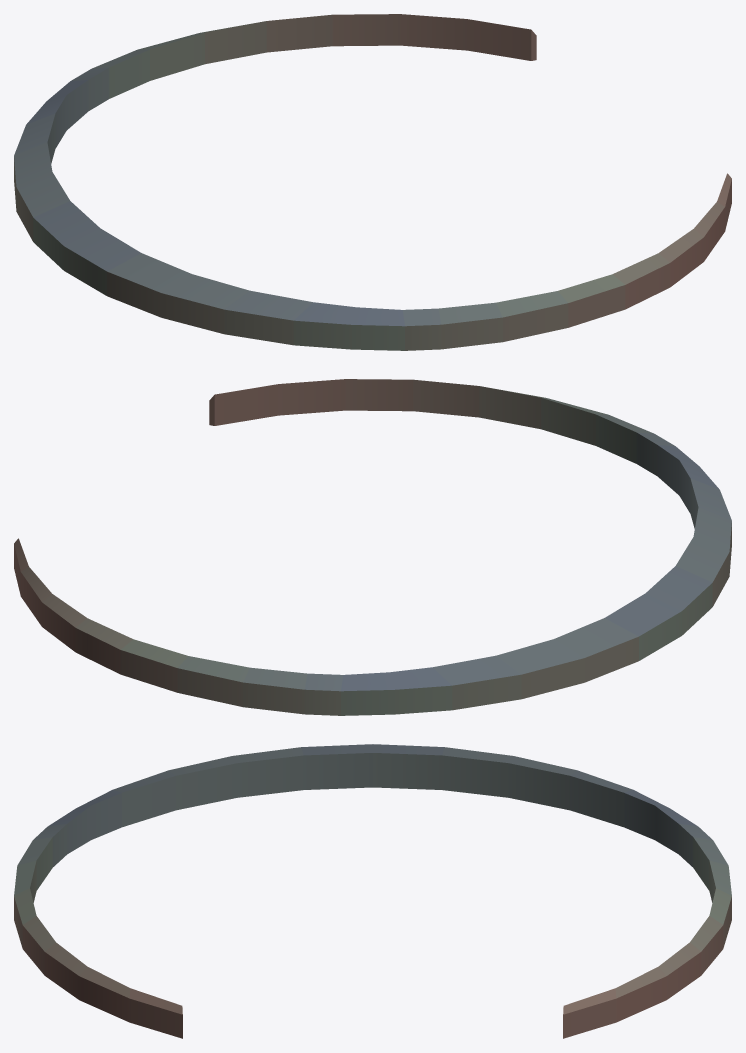
Rendered from Big_Ring_teleport_02.fbx.
The picture shows the model from 3 angles, top to bottom: view 1: azimuth 30°, elevation 25°; view 2: azimuth 150°, elevation 25°; view 3: azimuth 270°, elevation 25°; orthographic projection. The views are drawn at different scales.
Visible parts, largest first — view 1: Ring_teleport; view 2: Ring_teleport; view 3: Ring_teleport.
Part boxes in pixels (x1=…): Ring_teleport: x1=14, y1=14, x2=731, y2=350; Ring_teleport: x1=14, y1=379, x2=731, y2=715; Ring_teleport: x1=14, y1=744, x2=731, y2=1038.
Bounding box in the file's own units: 43.49 × 2.6 × 48.75.
